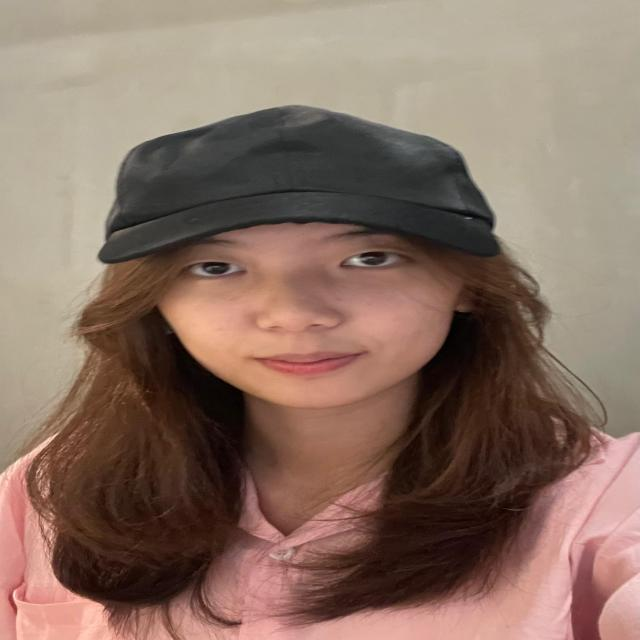3_gorra: (105, 103, 498, 360)
